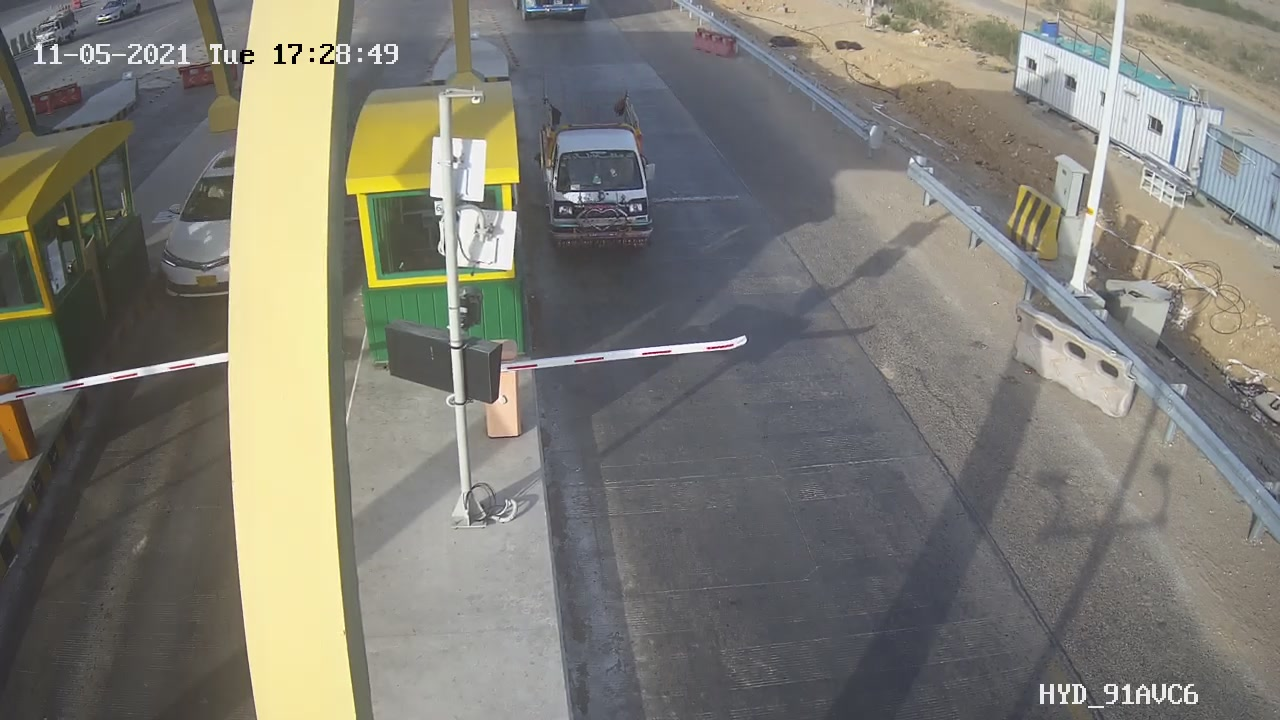F1: (531, 88, 669, 264)
